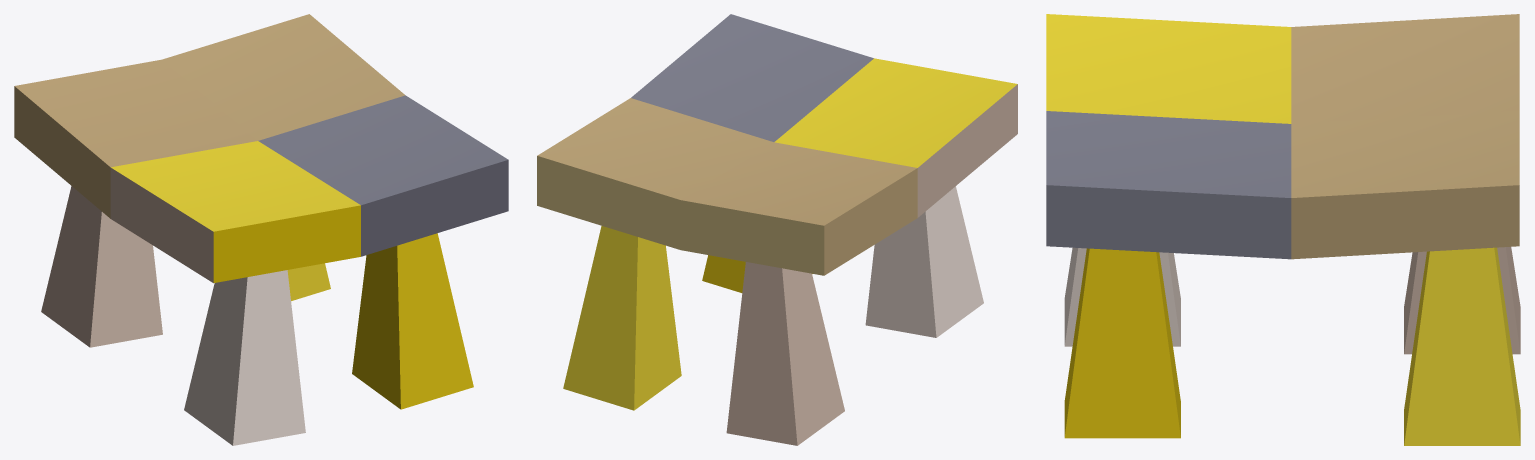
File: stool.glb
3 views of the same model, side by side, from view 1: azimuth 30°, elevation 25°; view 2: azimuth 150°, elevation 25°; view 3: azimuth 270°, elevation 25° (orthographic). The views are drawn at different scales.
Visible parts, largest first — view 1: Stool.001; view 2: Stool.001; view 3: Stool.001.
Part boxes in pixels (x1,y1,x2,y2): Stool.001: (14,14,508,445); Stool.001: (537,14,1017,445); Stool.001: (1046,14,1520,445).
Size of the model in its own units: 0.4152 by 0.3193 by 0.4861.
